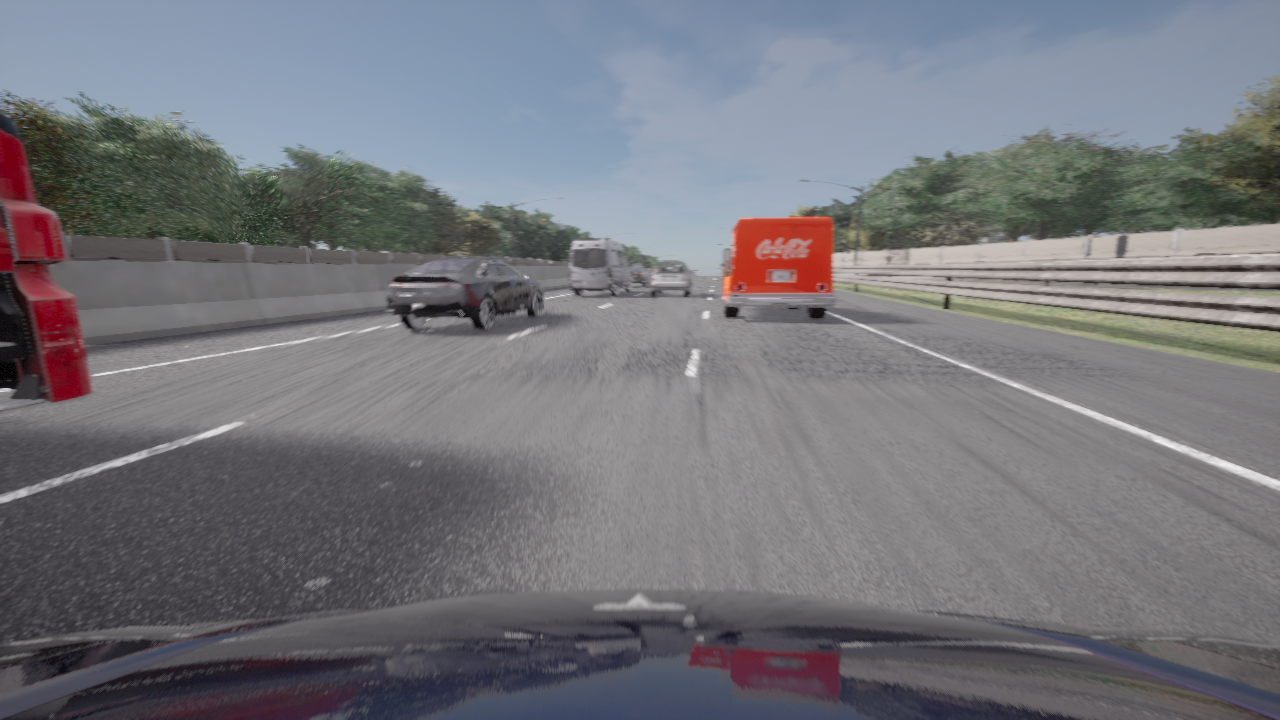cyclist: (0, 588, 1279, 719), (386, 258, 543, 330), (722, 217, 835, 317), (569, 239, 632, 295), (650, 261, 693, 297), (630, 264, 652, 286), (722, 256, 732, 286)
